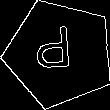P_S: (38, 27, 81, 81)
